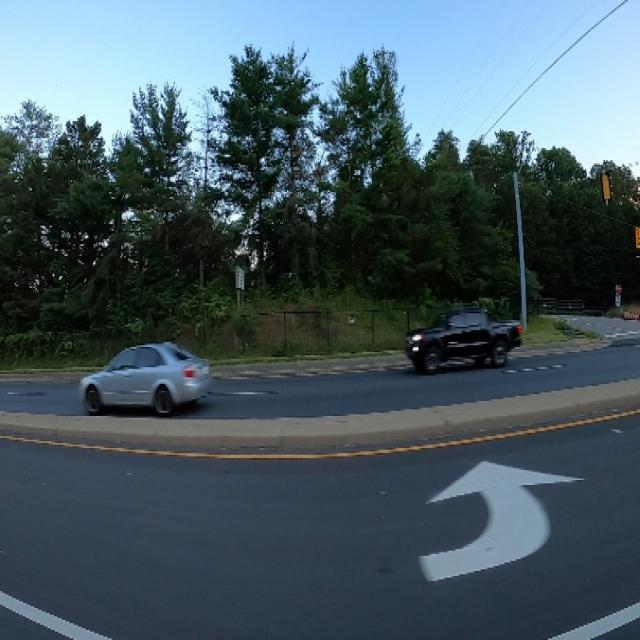car: (71, 330, 217, 421), (401, 295, 525, 384)
